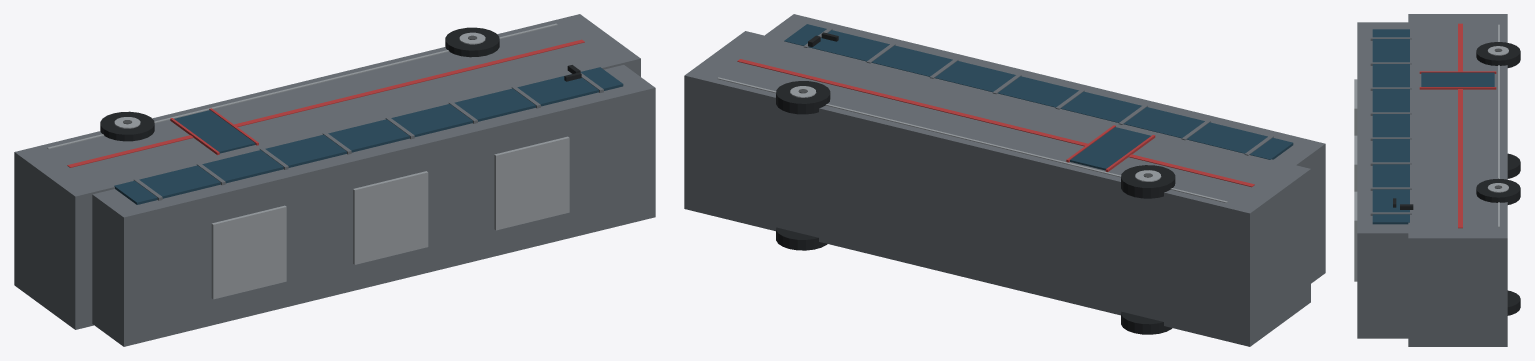
File: RM_Bus_32.glb
3 renders of one model, left to right at view 1: azimuth 30°, elevation 25°; view 2: azimuth 150°, elevation 25°; view 3: azimuth 270°, elevation 25°, orthographic. The views are drawn at different scales.
Parts seen in each view (by area): view 1: part_001, part_000, part_002, part_038, part_039, part_037, part_013, part_040, part_024, part_030, part_014; view 2: part_000, part_002, part_001, part_013, part_040, part_030, part_024, part_014, part_027, part_021; view 3: part_000, part_001, part_002, part_040, part_013, part_024, part_030, part_039, part_014, part_021, part_027, part_042 (+5 smaller).
Boxes of the visible parts, x1,y1,x2,y2 form: part_001: (92,65,655,346); part_000: (14,14,640,329); part_002: (114,67,623,204); part_038: (353,171,428,264); part_039: (494,136,569,230); part_037: (211,205,286,299); part_013: (67,39,584,167); part_040: (174,110,255,153); part_024: (100,111,154,141); part_030: (445,27,499,57); part_014: (47,23,557,149); part_000: (684,31,1310,346); part_002: (784,24,1293,159); part_001: (765,14,1325,283); part_013: (737,59,1254,187); part_040: (1070,127,1150,170); part_030: (776,81,830,114); part_024: (1121,165,1175,198); part_014: (717,77,1227,203); part_027: (776,227,827,250); part_021: (1121,311,1172,334); part_000: (1408,14,1507,346); part_001: (1357,22,1408,338); part_002: (1372,29,1409,224); part_040: (1421,72,1494,86); part_013: (1458,23,1462,228); part_024: (1476,42,1520,67); part_030: (1476,178,1520,204); part_039: (1354,191,1357,281); part_014: (1498,24,1499,227); part_021: (1507,153,1520,178); part_027: (1507,290,1520,315); part_042: (1419,87,1496,89).
Bounding box in the file's own units: 11.22 × 2.85 × 3.51.
